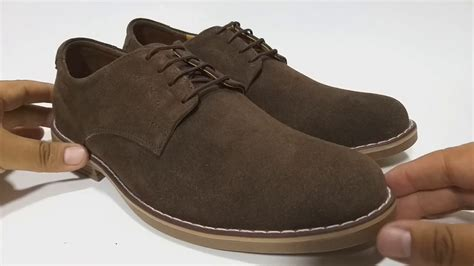gamuza: (51, 17, 409, 235)
